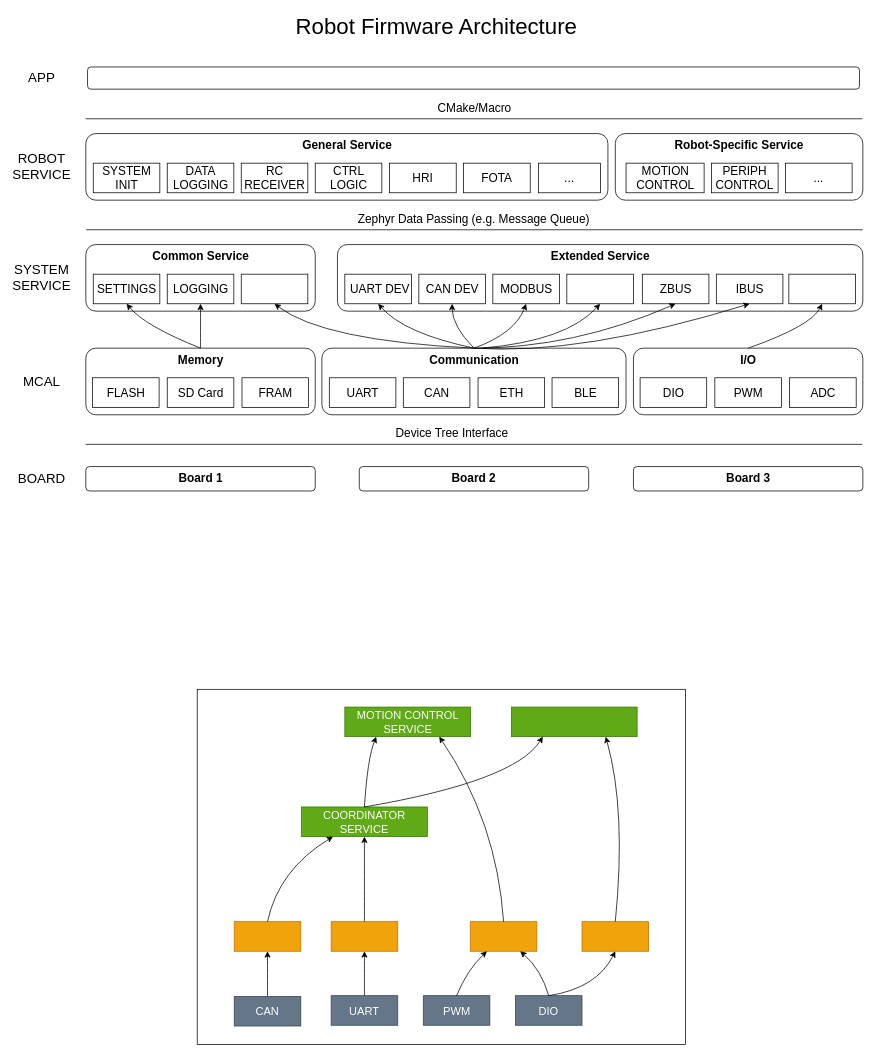
Image size: 877x1057. Some labels were removed from this diagram. Here are the shapes that lost their labels. From the top down, the centre of each, then its label:
At point (473, 77): "Setup".
At point (274, 288): "SMP".
At point (599, 288): "CANOPEN".
At point (821, 288): "I/O DEV".
At point (574, 721): "PERIPH CONTROL SERVICE".
At point (267, 936): "CANOPEN SERVICE".
At point (364, 936): "RECEIVER SERVICE".
At point (503, 936): "ACTUATOR SERVICE".
At point (615, 936): "LIGHT SERVICE".
